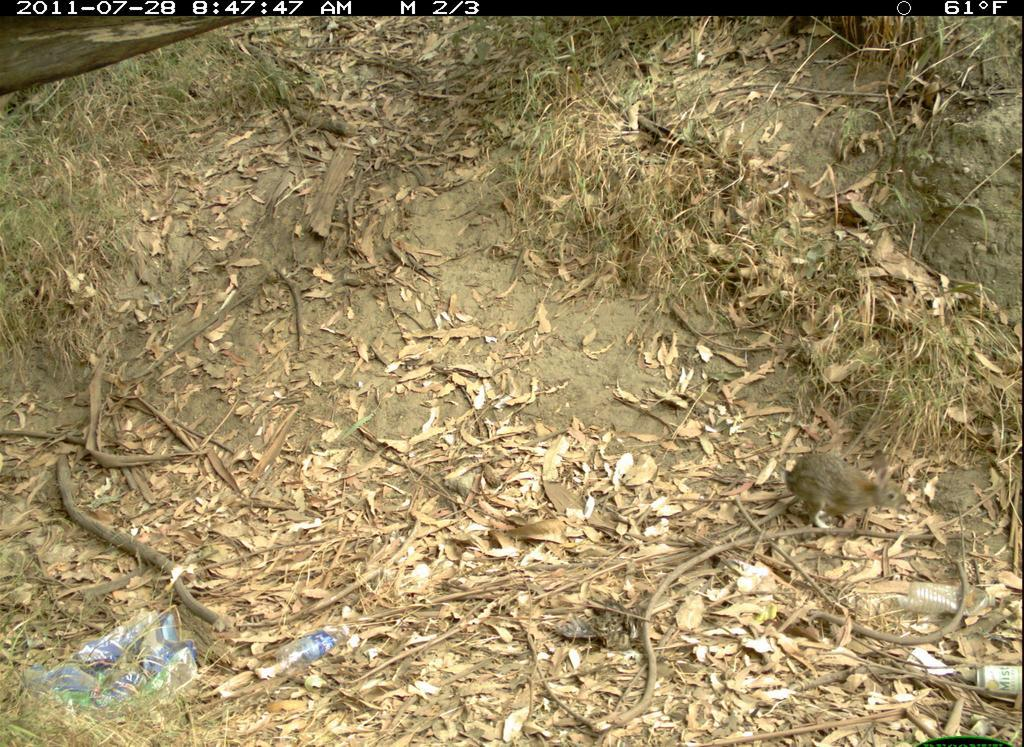rabbit: (777, 437, 912, 538)
